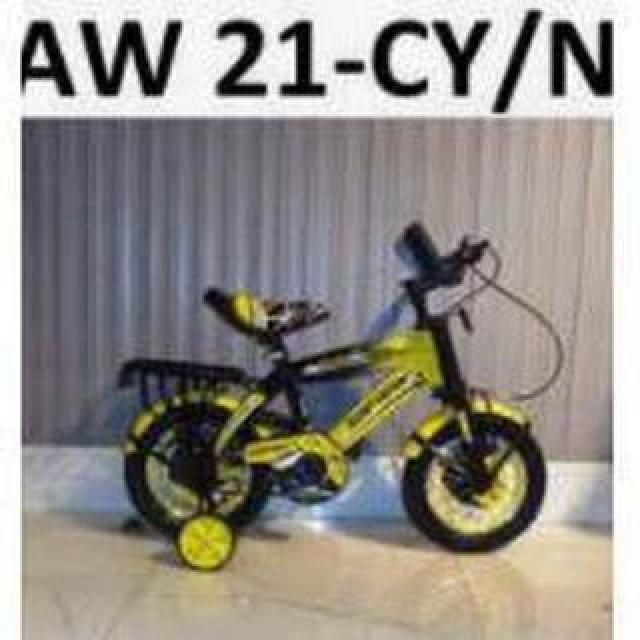Person: (114, 228, 570, 576)
